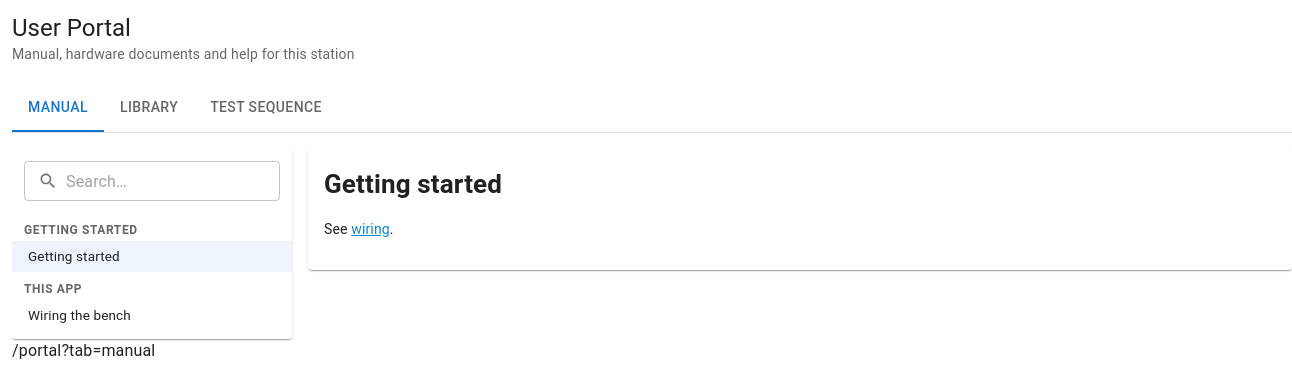
Test: Portal › keeps help: links inside the portal instead of jumping to /help
Click the link "wiring": [370, 229] box [351, 221, 390, 237]
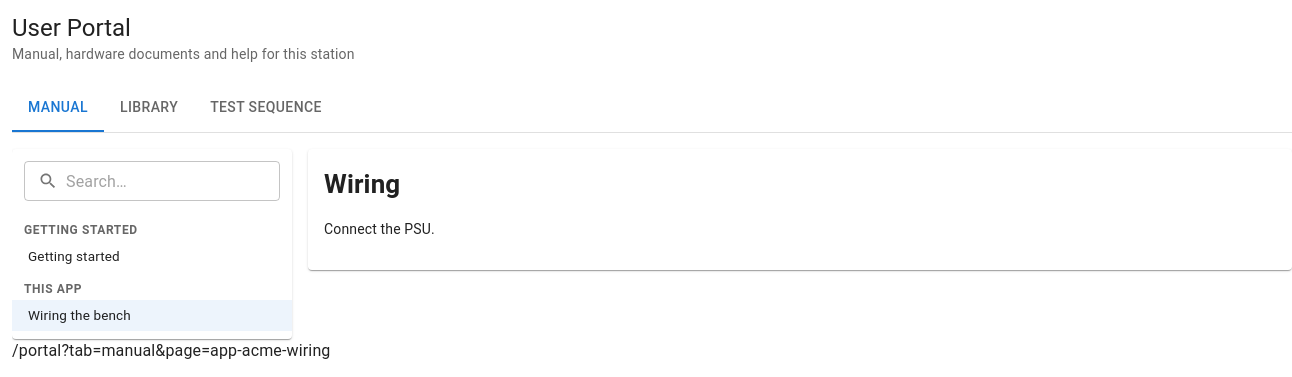
Now the text with test id "where" reads "/portal?tab=manual&page=app-acme-wiring", box [12, 341, 330, 360]
Now the heading "Wiring" is shown, box [324, 169, 400, 199]
